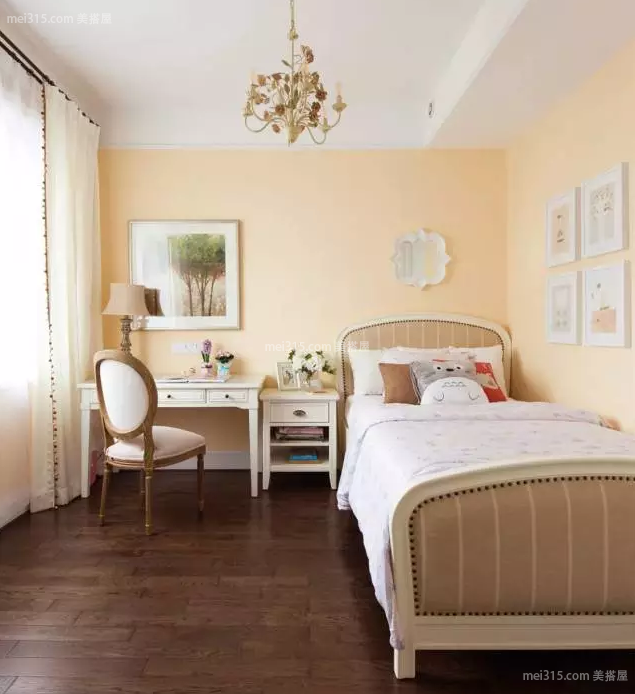床: (338, 334, 630, 681)
枕头: (338, 345, 512, 412)
灯: (234, 12, 345, 154), (100, 282, 153, 364)
